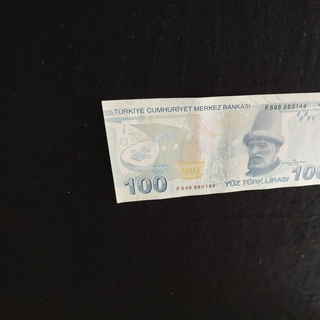100TLBack: (100, 91, 320, 204)
